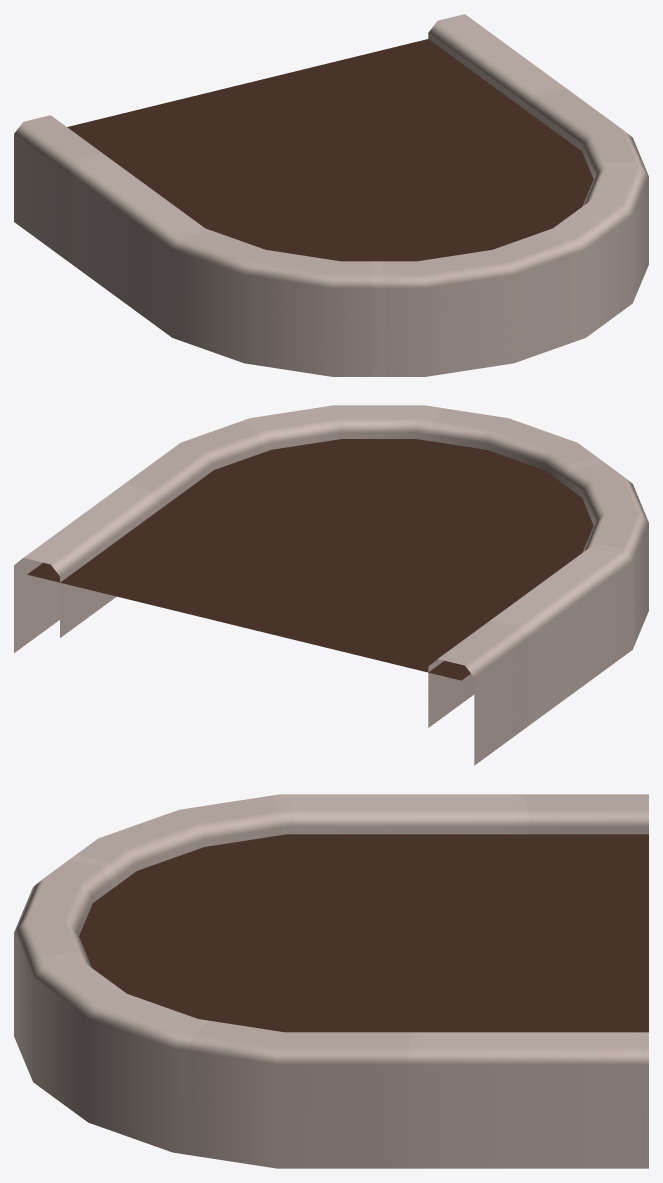
The model's file is GardenBed_Modular_2m_RoundedEnd.fbx.
3 views of the same model, one above another, from view 1: azimuth 30°, elevation 25°; view 2: azimuth 150°, elevation 25°; view 3: azimuth 270°, elevation 25° (orthographic). The views are drawn at different scales.
Parts seen in each view (by area): view 1: GardenBed_Modular_2m_RoundedEnd; view 2: GardenBed_Modular_2m_RoundedEnd; view 3: GardenBed_Modular_2m_RoundedEnd.
Part boxes in pixels (bbox=[...]): GardenBed_Modular_2m_RoundedEnd: bbox=[14, 14, 648, 376]; GardenBed_Modular_2m_RoundedEnd: bbox=[14, 405, 648, 765]; GardenBed_Modular_2m_RoundedEnd: bbox=[14, 794, 648, 1168].
Bounding box in the file's own units: 197 × 40 × 200.
